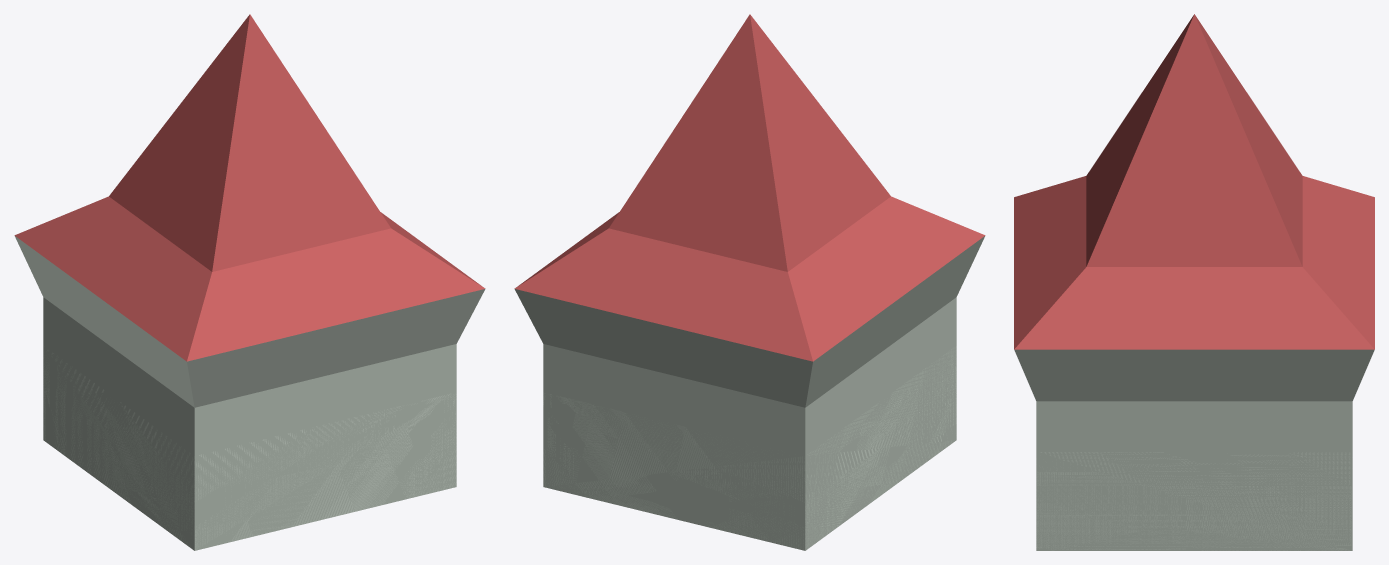
File: tile_026.dae
3 views of the same model, side by side, from view 1: azimuth 30°, elevation 25°; view 2: azimuth 150°, elevation 25°; view 3: azimuth 270°, elevation 25° (orthographic). The views are drawn at different scales.
Parts seen in each view (by area): view 1: tile_026; view 2: tile_026; view 3: tile_026.
Boxes of the visible parts, x1,y1,x2,y2 form: tile_026: (14, 14, 485, 550); tile_026: (514, 14, 985, 550); tile_026: (1014, 14, 1374, 550).
Size of the model in its own units: 0.6727 by 0.9674 by 0.6727.
